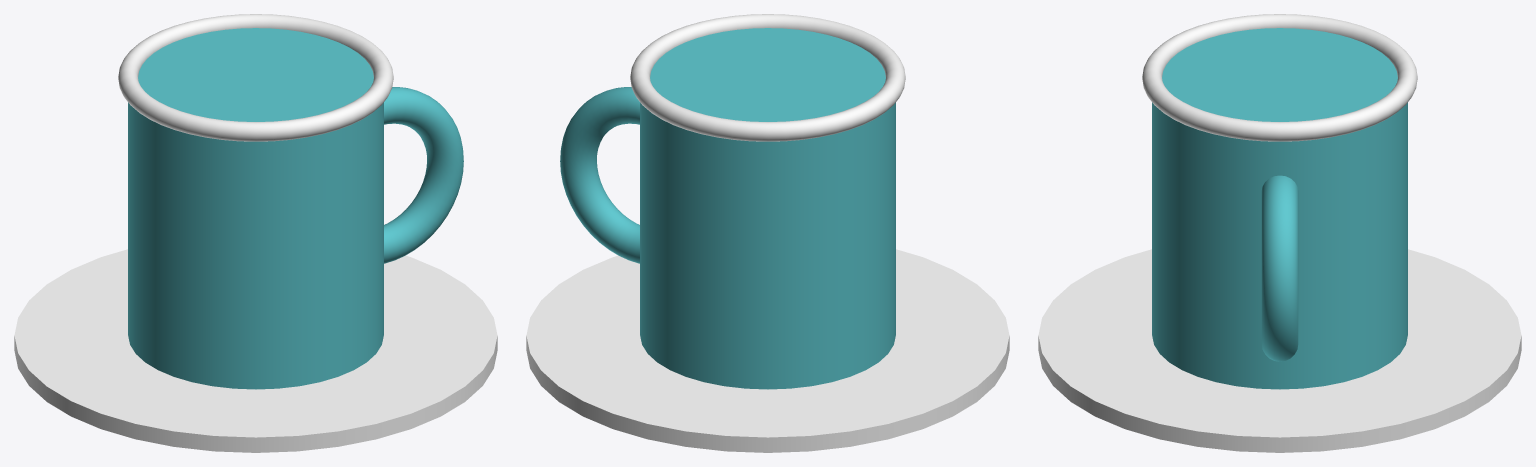
File: coffee-mug.glb
3 views of the same model, side by side, from view 1: azimuth 30°, elevation 25°; view 2: azimuth 150°, elevation 25°; view 3: azimuth 270°, elevation 25° (orthographic).
Bounding box in the file's own units: 1.7 × 1.1 × 1.7.
